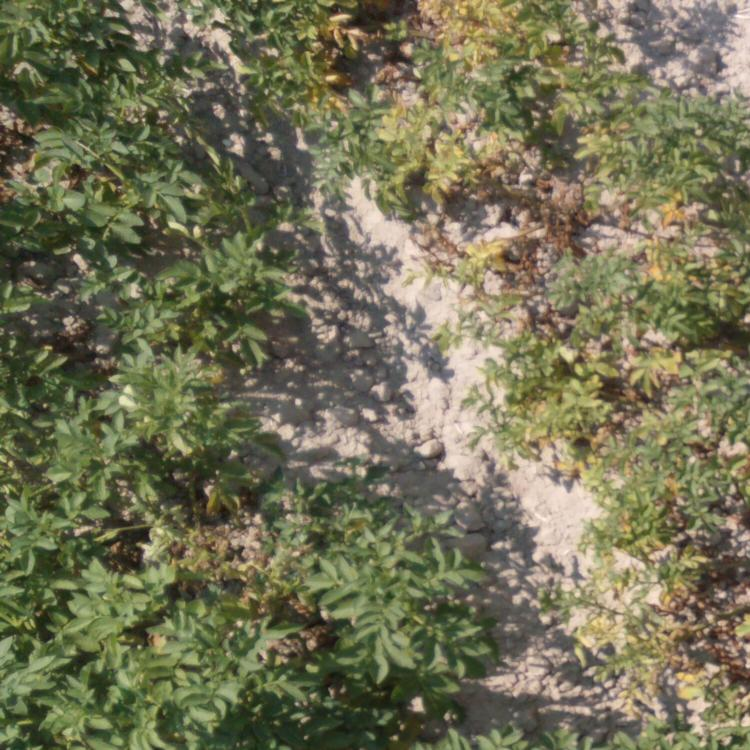healthy: (1, 480, 458, 748), (1, 222, 268, 470), (2, 1, 250, 212), (480, 707, 750, 743)
stressed: (430, 236, 748, 478), (325, 90, 743, 227), (581, 488, 746, 697), (258, 1, 625, 87)
